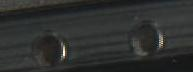joints: (28, 26, 70, 69), (129, 16, 166, 56)
